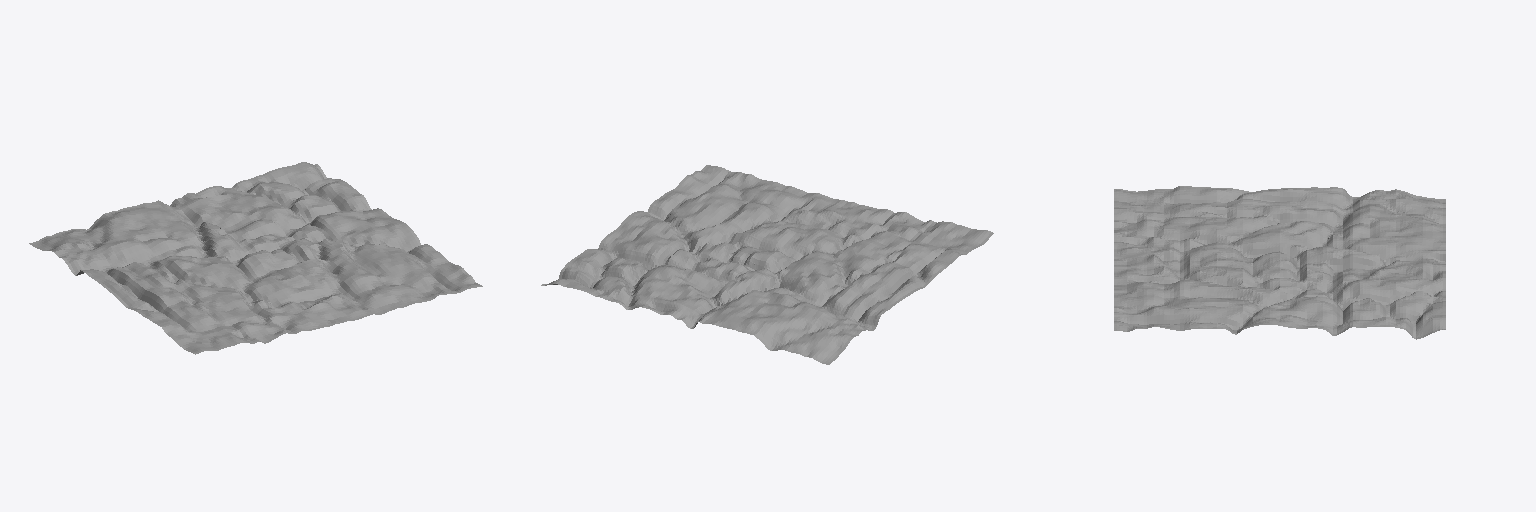
The model's file is floor.obj.
3 views of the same model, side by side, from view 1: azimuth 30°, elevation 25°; view 2: azimuth 150°, elevation 25°; view 3: azimuth 270°, elevation 25° (orthographic).
Parts seen in each view (by area): view 1: Relief; view 2: Relief; view 3: Relief.
Boxes of the visible parts, x1,y1,x2,y2 form: Relief: [29, 162, 482, 354]; Relief: [541, 165, 993, 364]; Relief: [1114, 186, 1445, 339].
Bounding box in the file's own units: 17.52 × 1.56 × 17.52.